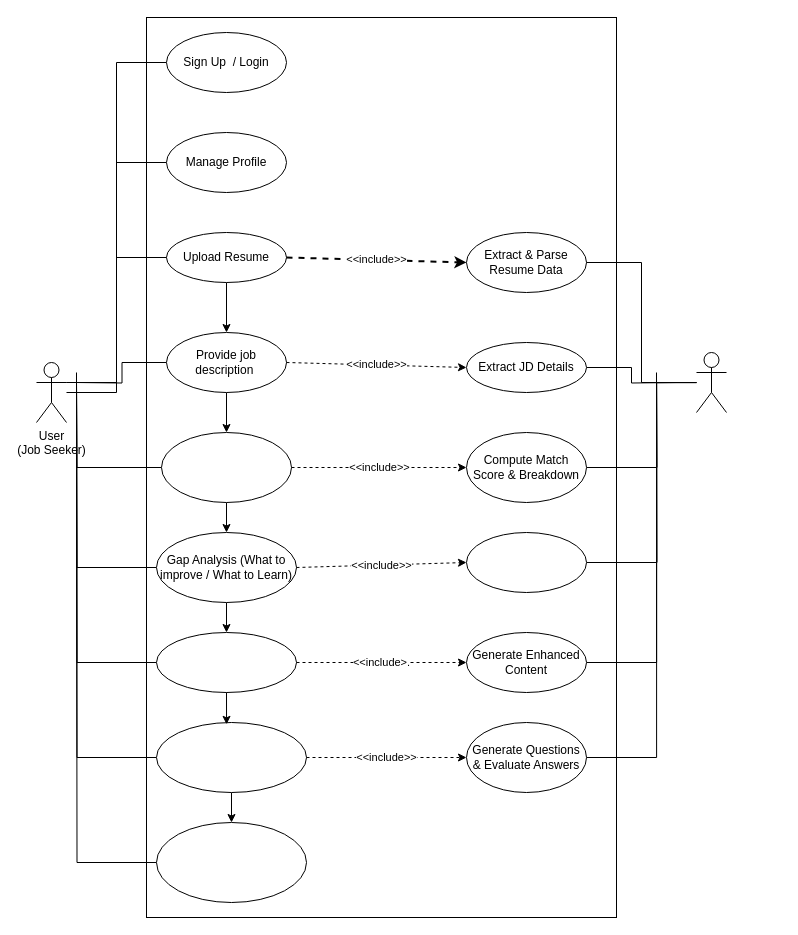
The diagram is 798 pixels wide and 935 high, and some of its shapes have lost their labels. The centre of each missing label's shape, as x and y in pixels:
AI System (LLM/ Processing Engine): [711,382]
Enhance Resume (AI Suggestions): [226,662]
Identify Gaps & Recommendations: [526,562]
Match & Score (ATS / Job Match): [226,467]
Mock Interview: [231,757]
View Reports & History (Scores, Resume, Interview): [231,862]
